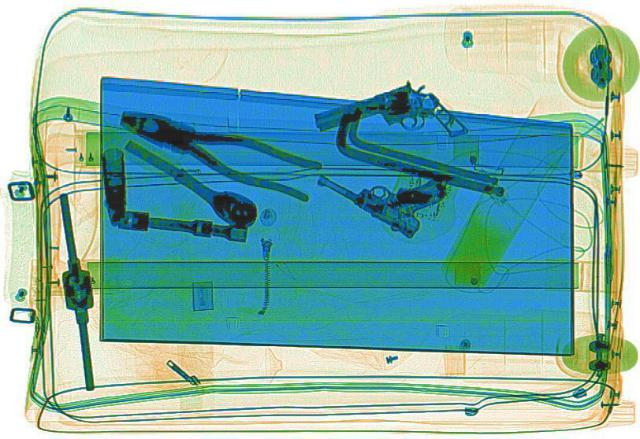Gun: (304, 139, 470, 240), (304, 74, 468, 168)
Pliers: (100, 96, 336, 204)
